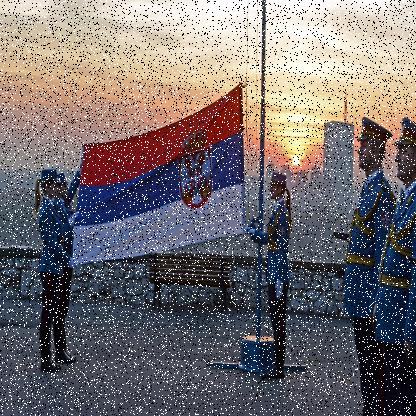rs: (73, 83, 246, 266)
